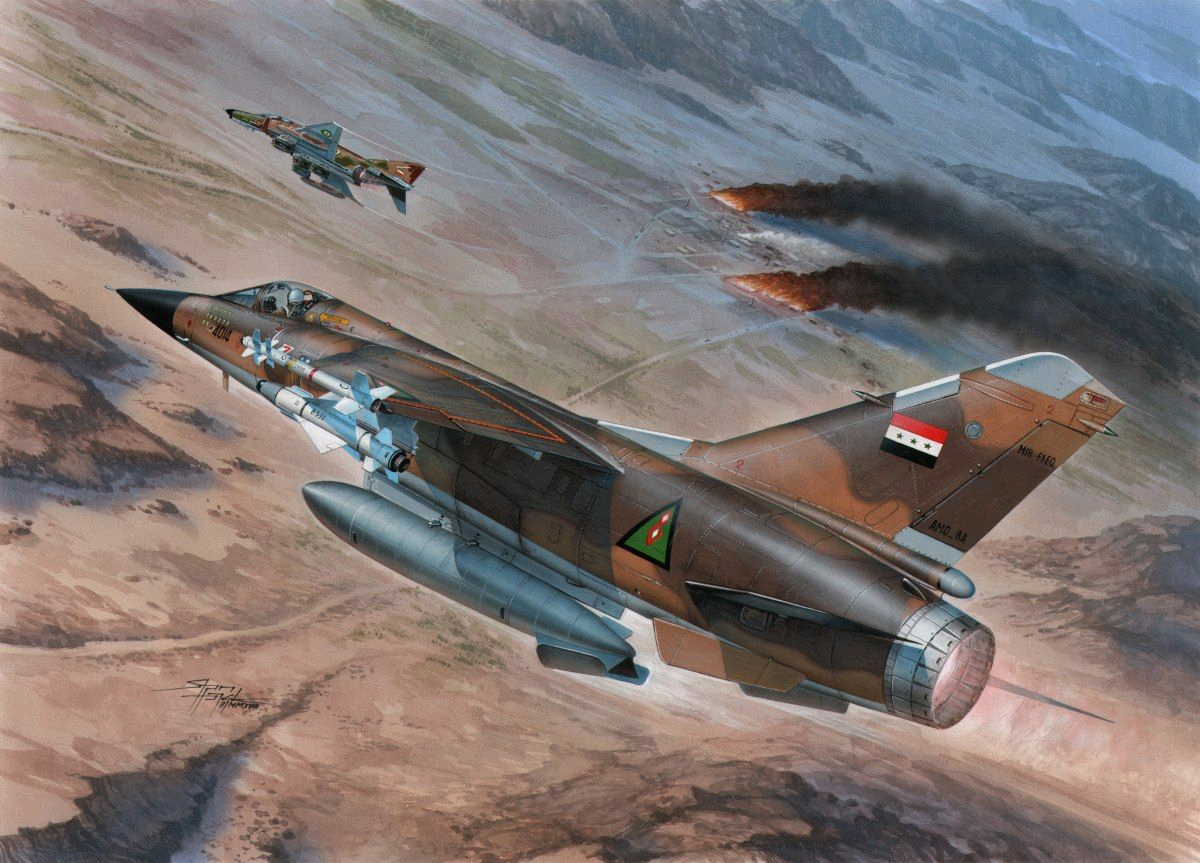airplane: (94, 262, 1129, 742), (206, 99, 416, 211)
